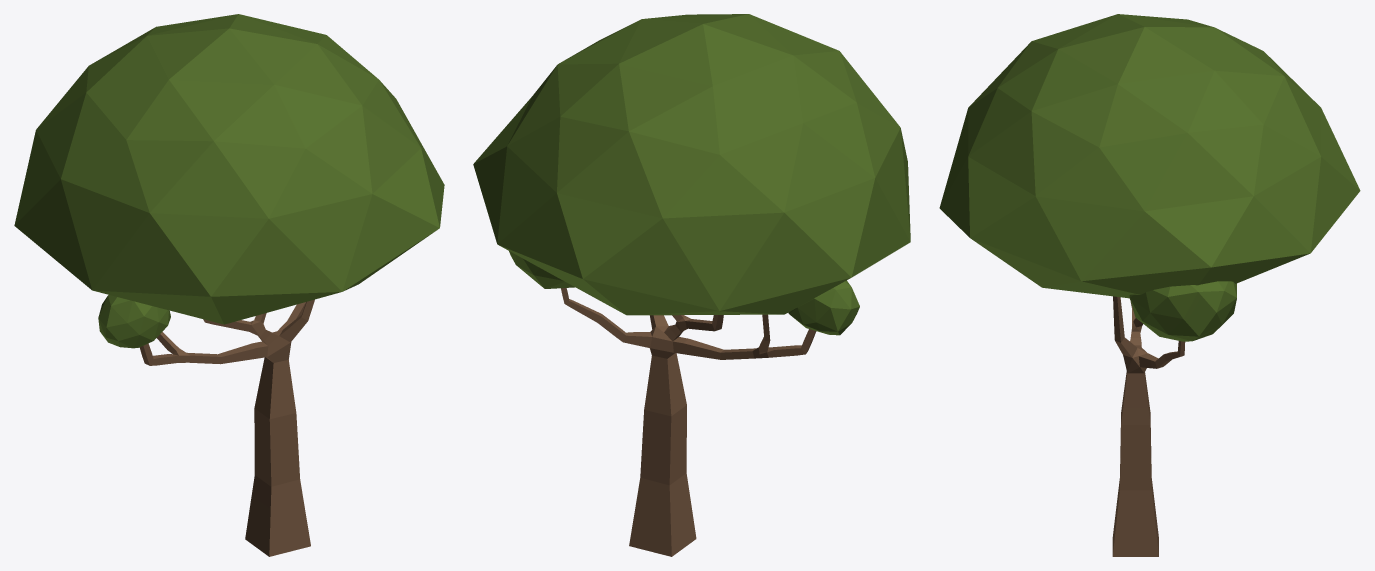
File: AppleTree2.fbx
The picture shows the model from 3 angles, left to right: view 1: azimuth 30°, elevation 25°; view 2: azimuth 150°, elevation 25°; view 3: azimuth 270°, elevation 25°; orthographic projection. The views are drawn at different scales.
Parts seen in each view (by area): view 1: AppleTree2Foliage, AppleTree2; view 2: AppleTree2Foliage, AppleTree2; view 3: AppleTree2Foliage, AppleTree2.
Boxes of the visible parts, x1,y1,x2,y2 form: AppleTree2Foliage: (14,14,444,348); AppleTree2: (139,299,314,556); AppleTree2Foliage: (473,14,910,335); AppleTree2: (561,288,816,556); AppleTree2Foliage: (939,14,1360,341); AppleTree2: (1112,296,1185,556).
Size of the model in its own units: 4.5 by 6.06 by 4.62.
